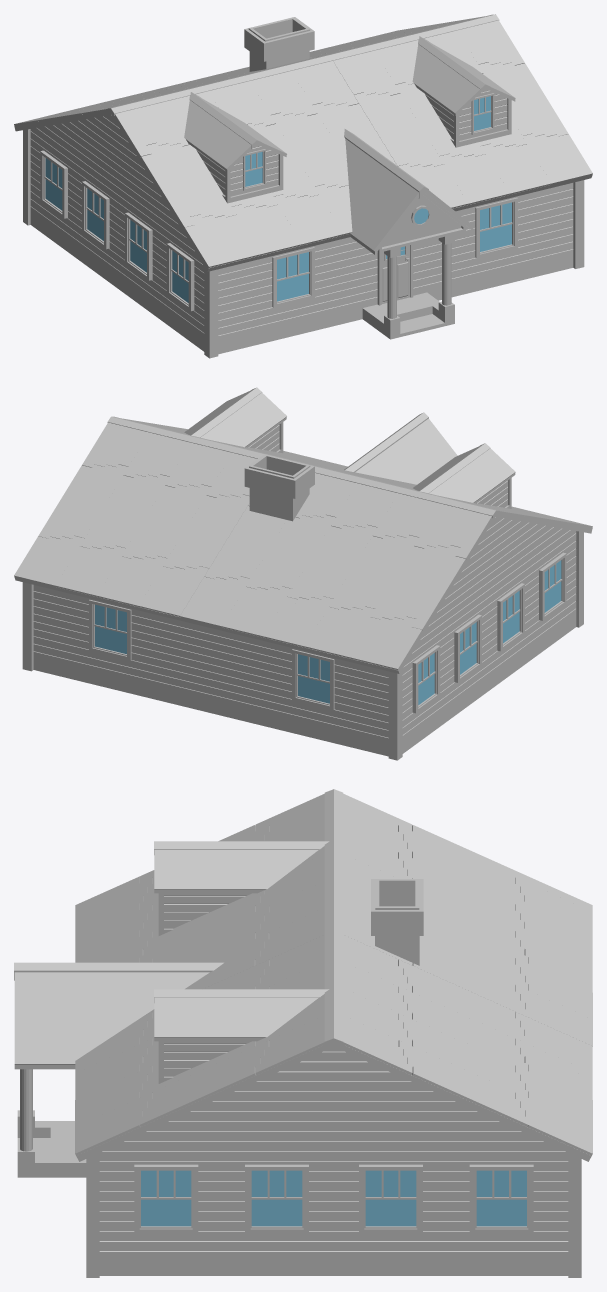
File: House_010.gltf
3 renders of one model, top to bottom at view 1: azimuth 30°, elevation 25°; view 2: azimuth 150°, elevation 25°; view 3: azimuth 270°, elevation 25°, orthographic. The views are drawn at different scales.
Visible parts, largest first — view 1: Hous_010; view 2: Hous_010; view 3: Hous_010.
Part boxes in pixels (left/top/right/bottom): Hous_010: left=14, top=14, right=592, bottom=358; Hous_010: left=14, top=387, right=592, bottom=760; Hous_010: left=14, top=789, right=592, bottom=1277.
Size of the model in its own units: 14.61 by 7.19 by 14.34.
